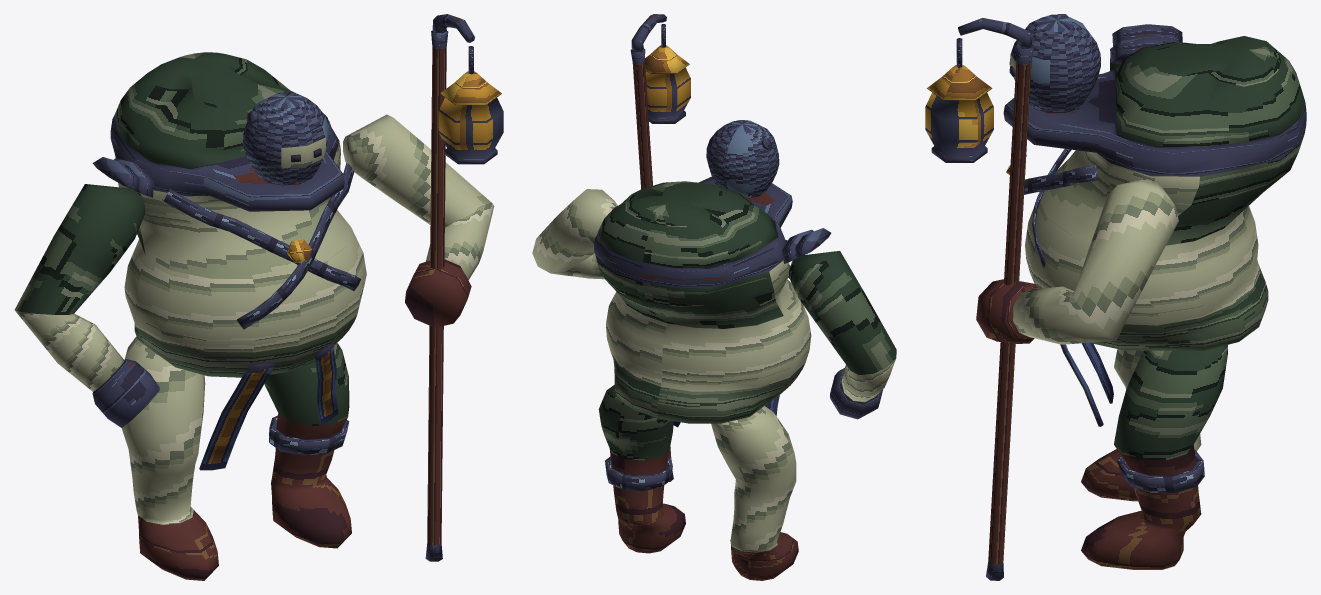
Rendered from gruftwaechter_G1.glb.
3 renders of one model, left to right at view 1: azimuth 30°, elevation 25°; view 2: azimuth 150°, elevation 25°; view 3: azimuth 270°, elevation 25°, orthographic. The views are drawn at different scales.
Visible parts, largest first — view 1: torso, arm_l, leg_l, arm_r, pole, gear, leg_r, head; view 2: torso, arm_l, leg_l, leg_r, pole, arm_r, head, gear; view 3: torso, leg_r, arm_r, pole, head, gear, leg_l, arm_l.
Part boxes in pixels (box(x1,y1,x2,y2)): torso: box(110, 52, 366, 377); arm_l: box(14, 157, 159, 427); leg_l: box(121, 336, 218, 580); arm_r: box(343, 114, 494, 327); pole: box(425, 14, 503, 561); gear: box(163, 110, 361, 470); leg_r: box(264, 342, 351, 548); head: box(243, 92, 328, 185); torso: box(594, 176, 811, 423); arm_l: box(782, 228, 896, 419); leg_l: box(711, 406, 798, 580); leg_r: box(598, 385, 685, 553); pole: box(630, 14, 690, 481); arm_r: box(532, 189, 617, 279); head: box(706, 120, 779, 198); gear: box(605, 138, 790, 491); torso: box(1003, 36, 1306, 350); leg_r: box(1081, 345, 1227, 569); arm_r: box(976, 178, 1178, 344); pole: box(925, 18, 1033, 580); head: box(1010, 14, 1100, 112); gear: box(1006, 14, 1204, 492); leg_l: box(1081, 349, 1201, 501); arm_l: box(1110, 24, 1182, 70).
Bounding box in the file's own units: 2.16 × 2.52 × 1.5.
1 material, 1 textured.
